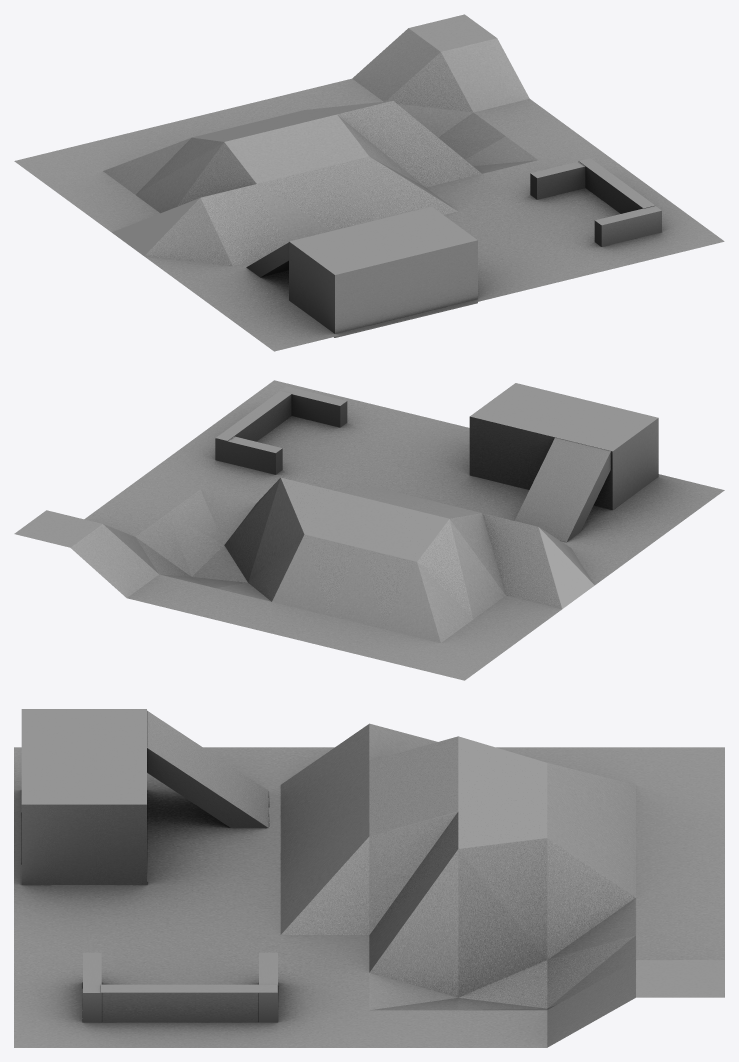
File: MAP2_1.fbx
3 views of the same model, one above another, from view 1: azimuth 30°, elevation 25°; view 2: azimuth 150°, elevation 25°; view 3: azimuth 270°, elevation 25° (orthographic). The views are drawn at different scales.
Visible parts, largest first — view 1: GROUND, HIGH_POINT, WALL_3, WALL_2, WALL_1, RAMP; view 2: GROUND, HIGH_POINT, RAMP, WALL_1, WALL_2, WALL_3; view 3: GROUND, HIGH_POINT, RAMP, WALL_2, WALL_3, WALL_1.
Boxes of the visible parts, bbox=[...] form: GROUND: bbox=[14, 14, 724, 351]; HIGH_POINT: bbox=[289, 206, 477, 337]; WALL_3: bbox=[594, 206, 661, 246]; WALL_2: bbox=[579, 158, 655, 213]; WALL_1: bbox=[530, 161, 585, 199]; RAMP: bbox=[246, 242, 288, 277]; GROUND: bbox=[14, 380, 724, 680]; HIGH_POINT: bbox=[469, 383, 658, 510]; RAMP: bbox=[514, 437, 610, 542]; WALL_1: bbox=[215, 436, 282, 474]; WALL_2: bbox=[215, 390, 291, 441]; WALL_3: bbox=[281, 386, 347, 427]; GROUND: bbox=[14, 723, 724, 1047]; HIGH_POINT: bbox=[21, 709, 146, 884]; RAMP: bbox=[147, 710, 268, 827]; WALL_2: bbox=[101, 984, 277, 1022]; WALL_3: bbox=[83, 952, 101, 1022]; WALL_1: bbox=[259, 952, 277, 1022].
Size of the model in its own units: 16.11 by 3.05 by 16.11.
